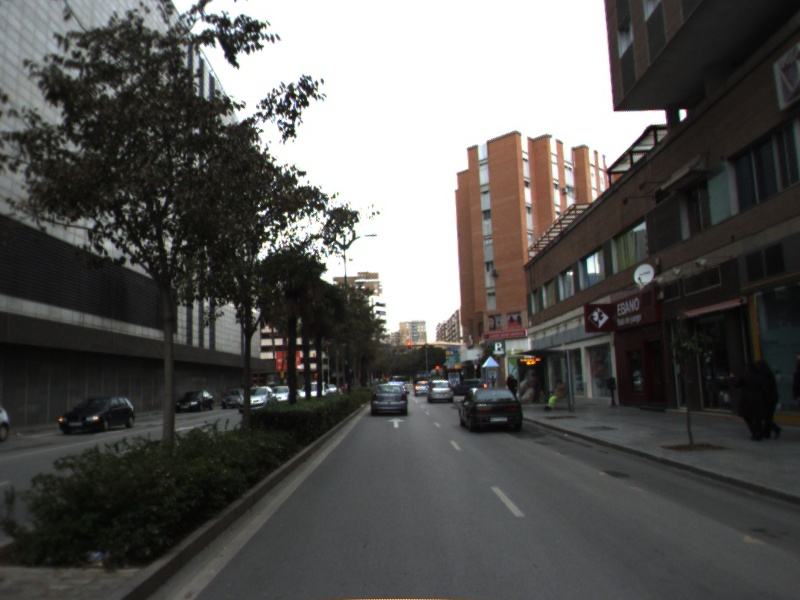STRAIGHT: (386, 416, 406, 430)
